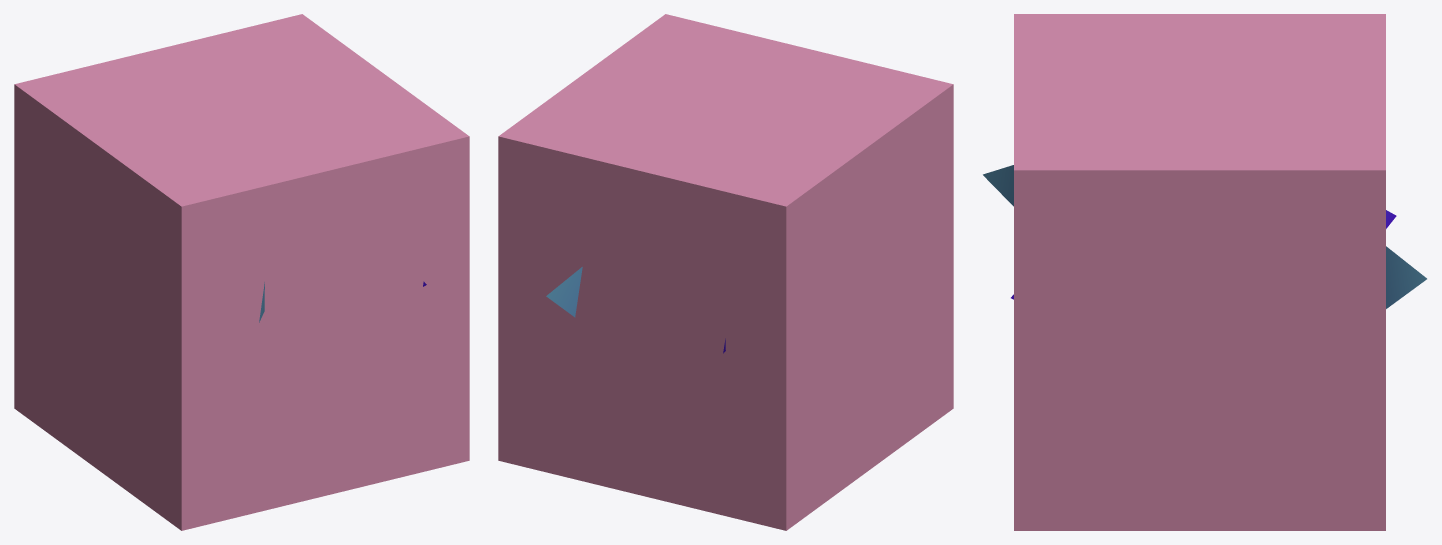
File: tree_aspen_bush_b.dae
3 views of the same model, side by side, from view 1: azimuth 30°, elevation 25°; view 2: azimuth 150°, elevation 25°; view 3: azimuth 270°, elevation 25° (orthographic). The views are drawn at different scales.
Parts seen in each view (by area): view 1: Untitled; view 2: Untitled, tree_oak_bush_a110; view 3: Untitled, tree_oak_bush_a110.
Part boxes in pixels (x1,y1,x2,y2): Untitled: (14, 14, 469, 530); Untitled: (498, 14, 953, 530); tree_oak_bush_a110: (546, 267, 725, 353); Untitled: (1014, 14, 1385, 530); tree_oak_bush_a110: (983, 165, 1426, 308).
Size of the model in its own units: 2.23 by 2.69 by 2.4.
